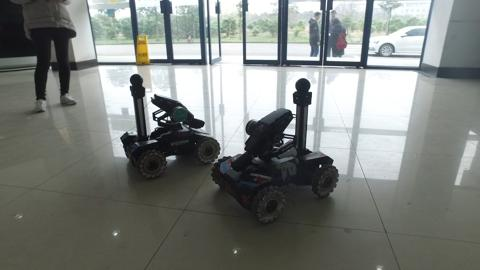chariot: (210, 75, 341, 233), (115, 70, 221, 179)
